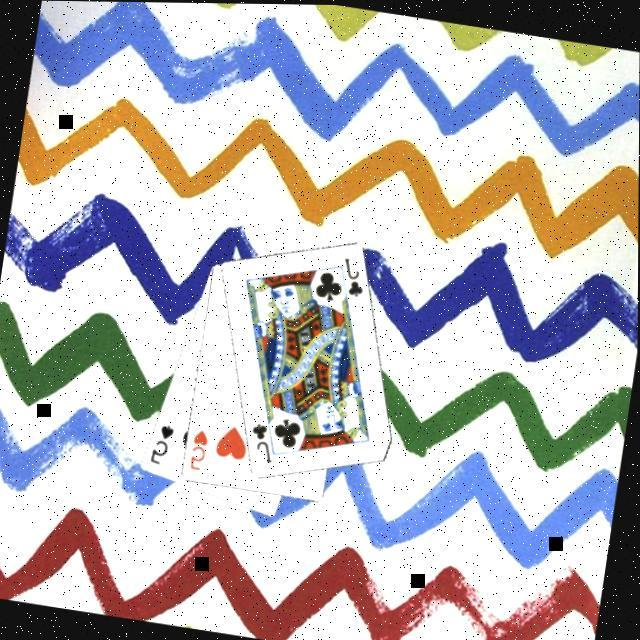5H: (186, 423, 212, 471)
5S: (146, 417, 178, 468)
JC: (243, 416, 280, 464), (334, 250, 370, 298)
